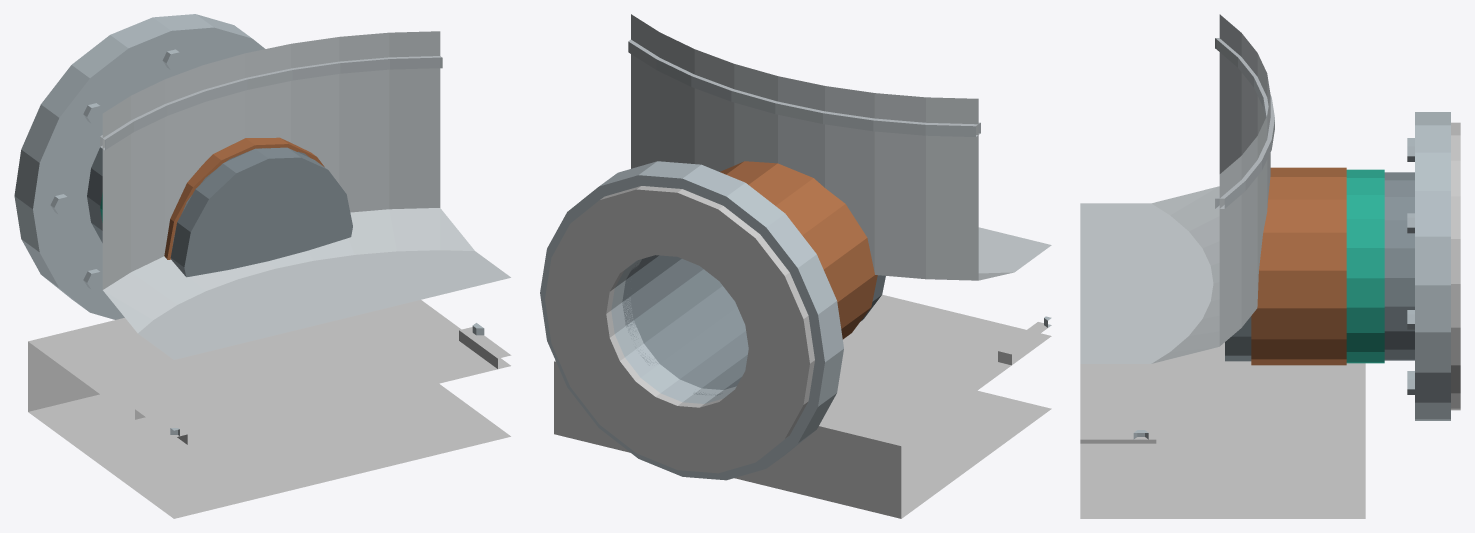
File: cell_1.obj
The picture shows the model from 3 angles, left to right: view 1: azimuth 30°, elevation 25°; view 2: azimuth 150°, elevation 25°; view 3: azimuth 270°, elevation 25°; orthographic projection. The views are drawn at different scales.
Bounding box in the file's own units: 1 × 1 × 1.
